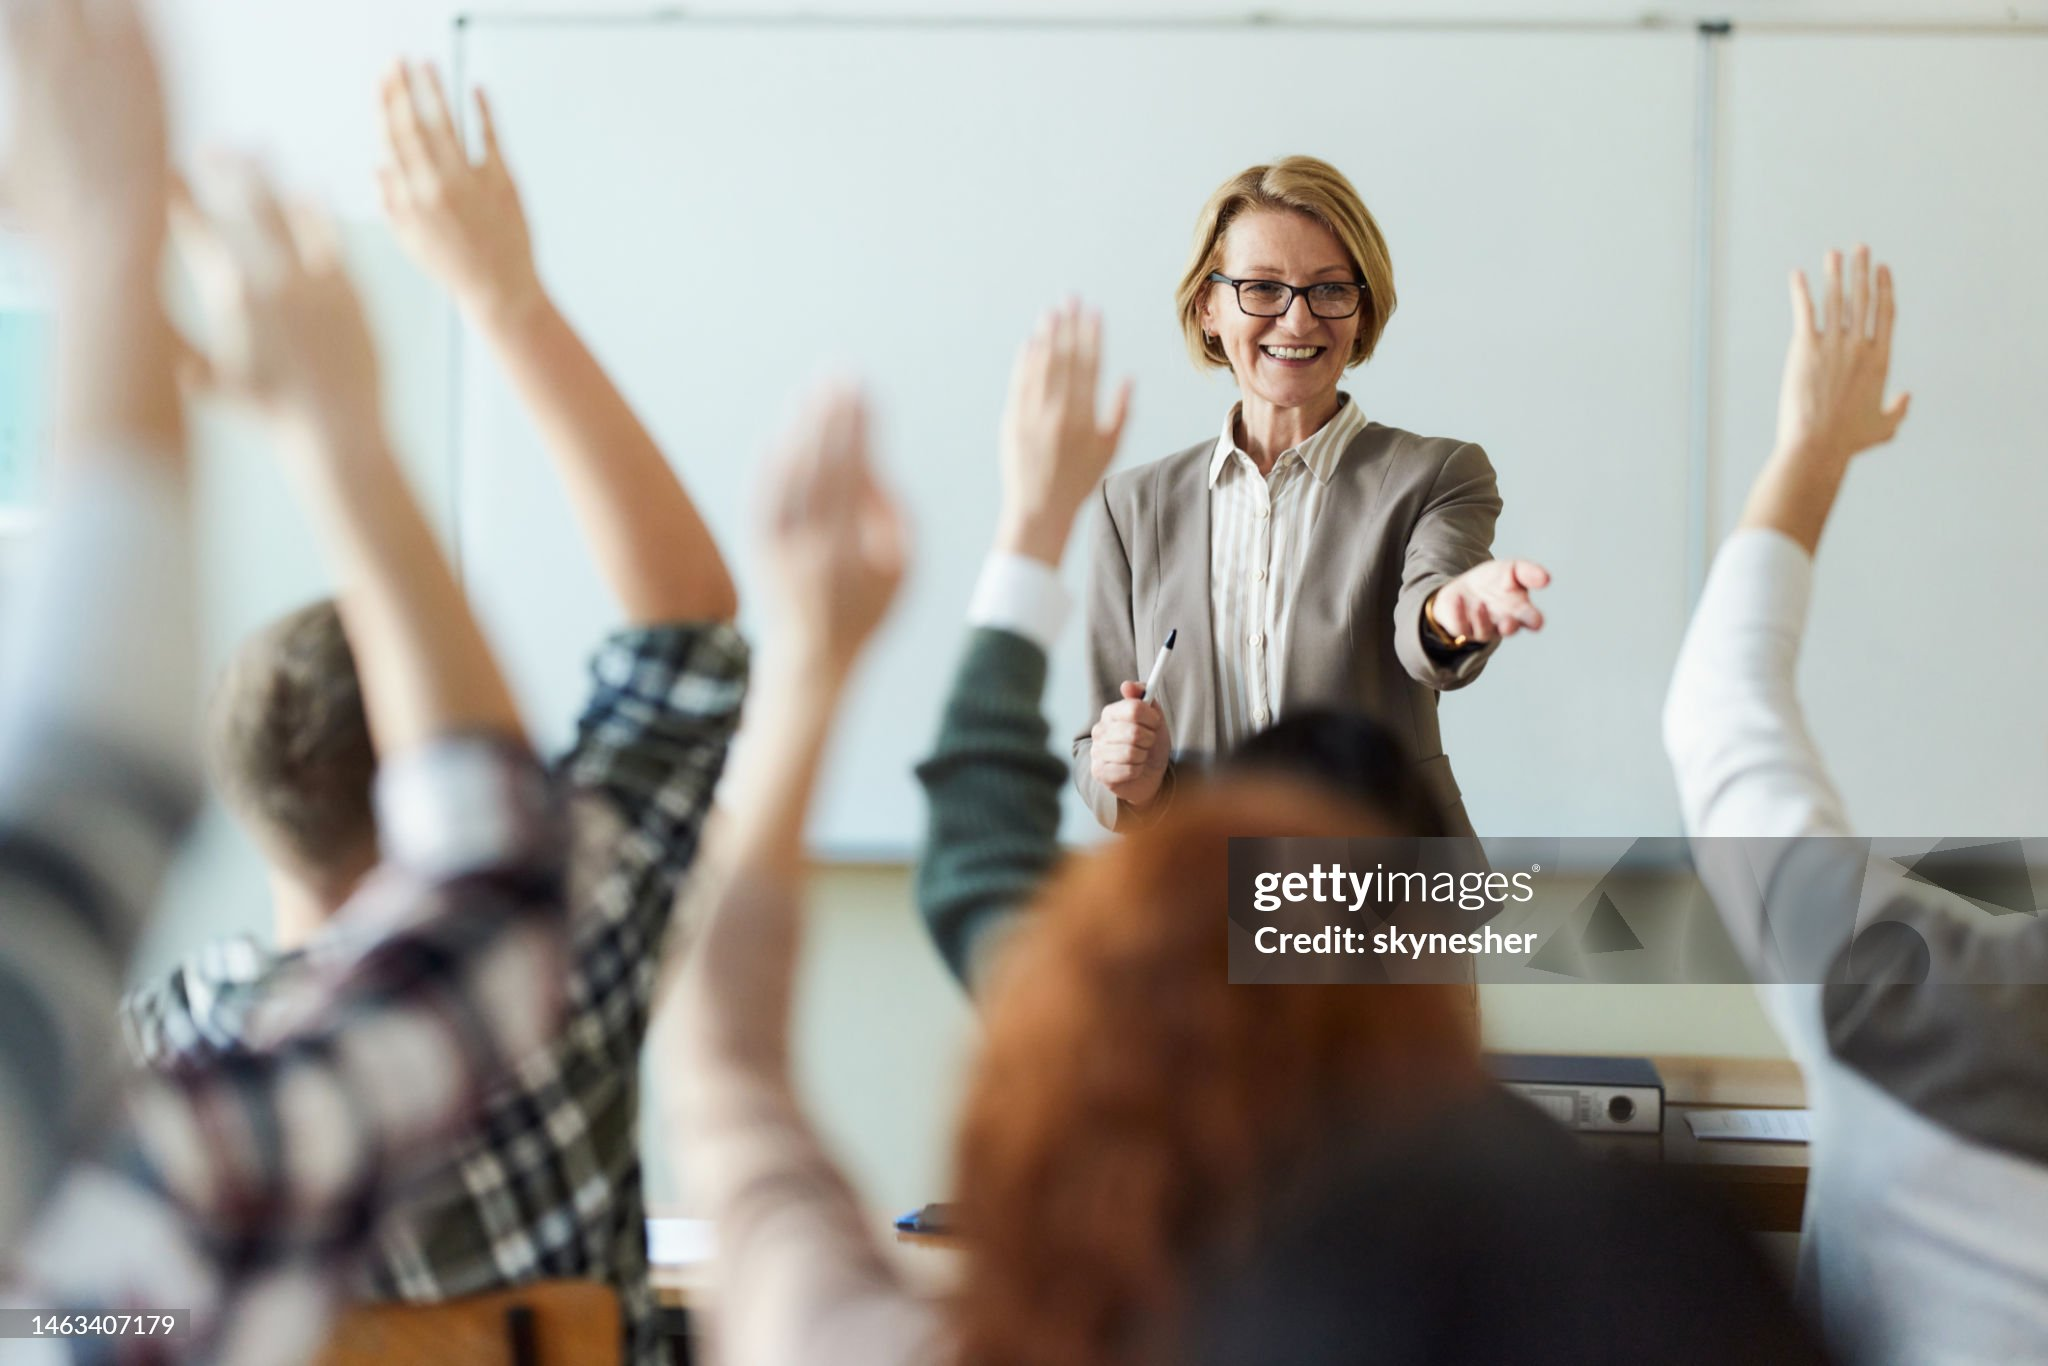mais-de-75-porcento: (14, 6, 2048, 1334)
